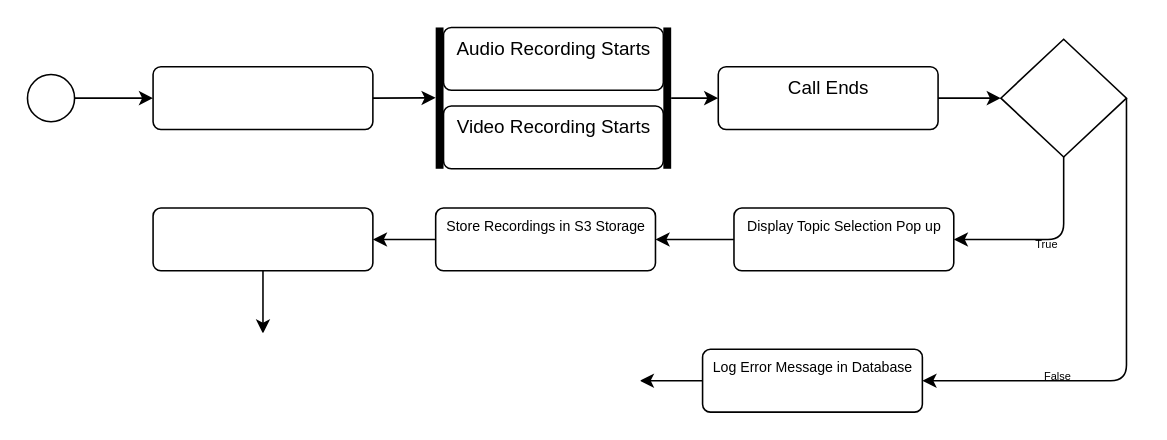
This 1167x440 diagram has some shape labels left out. Each missing label, with the centre of its shape:
If recordings succesfull: pixel 1062 97
Store Storage paths in Database: pixel 262 238
System Recieves a Call: pixel 262 97
